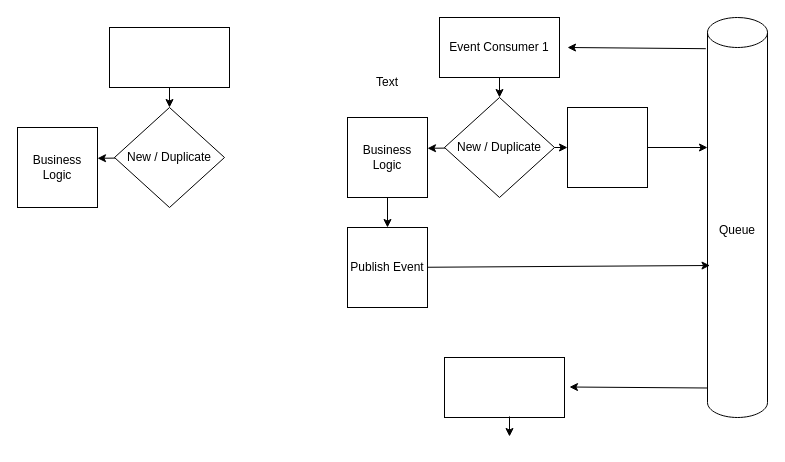
This 785x462 diagram has some shape labels left out. Here are the shapes that lost their labels. From the top down, the centre of each, then its label:
At point (169, 57): "Event Consumer".
At point (607, 147): "Replay event".
At point (504, 387): "Event Consumer 2".
